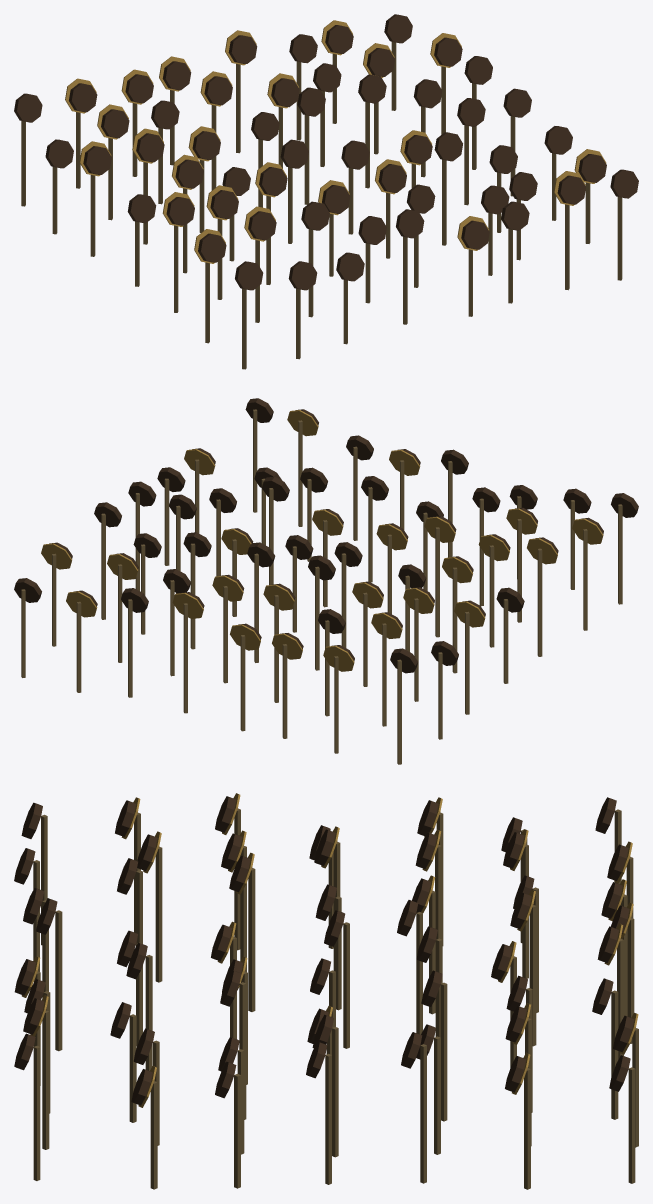
The model's file is sunflowers.glb.
The picture shows the model from 3 angles, top to bottom: view 1: azimuth 30°, elevation 25°; view 2: azimuth 150°, elevation 25°; view 3: azimuth 270°, elevation 25°; orthographic projection. The views are drawn at different scales.
Visible parts, largest first — view 1: sunflowers; view 2: sunflowers; view 3: sunflowers.
Part boxes in pixels (left/top/right/bottom): sunflowers: left=14, top=14, right=638, bottom=369; sunflowers: left=14, top=398, right=638, bottom=764; sunflowers: left=14, top=793, right=638, bottom=1189.
Bounding box in the file's own units: 9.15 × 2.54 × 9.17.
